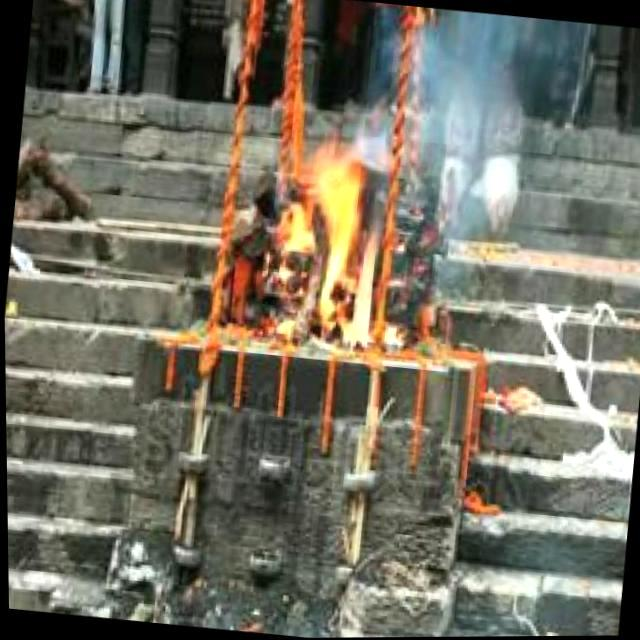fire: (261, 132, 391, 352)
